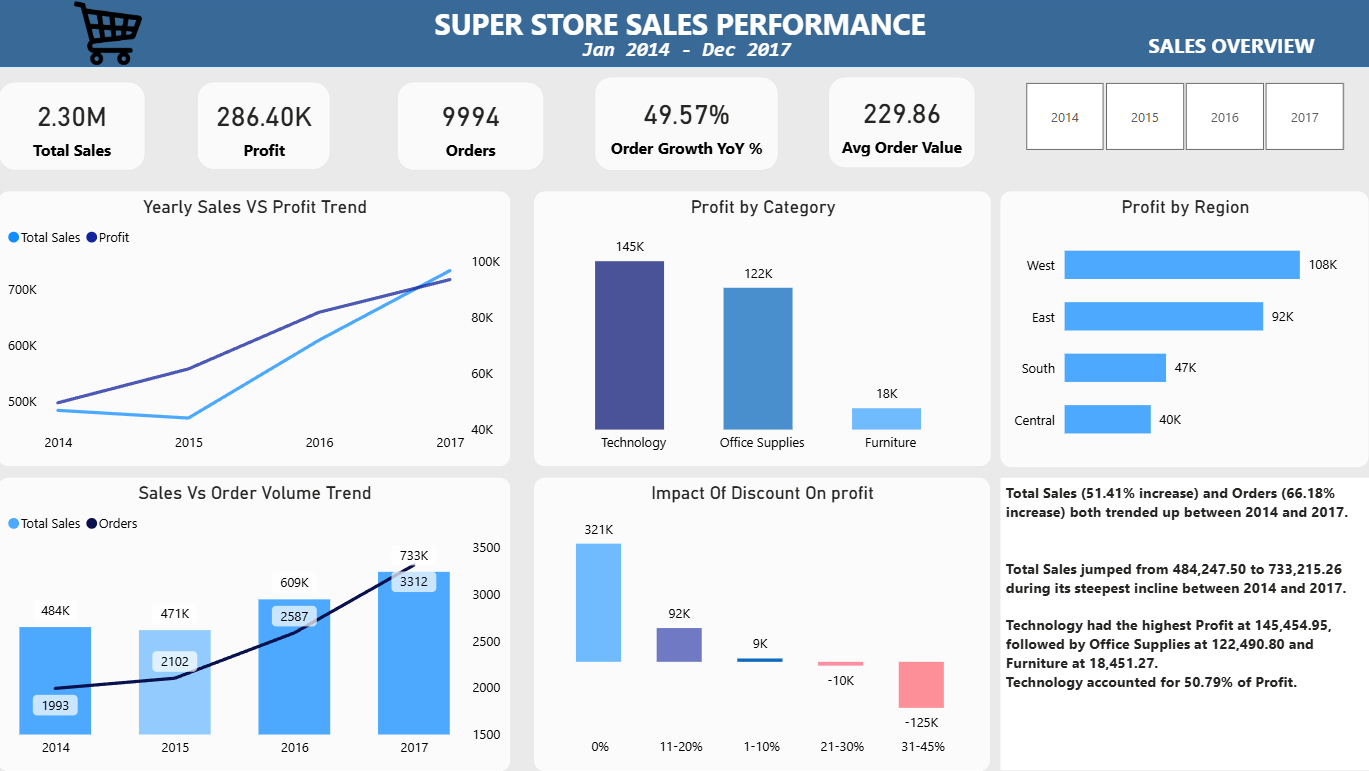

The page's visual inventory and layout, read from the dashboard file:
{"tool":"powerbi","page":{"name":"Performance Overview","canvas":[1280,720],"ordinal":0},"visuals":[{"type":"shape","box":[0,0,1280,63.4],"z":0},{"type":"textbox","box":[226.4,0,827.2,58.5],"z":1000},{"type":"textbox","box":[452.8,31.9,390.2,39.3],"z":2000},{"type":"lineChart","title":"Sales and Profit Show Consistent Growth from 2014 to 2017","fields":{"Category":["Sheet1.Order Date.Variation.Date Hierarchy.Year"],"Y":["Sheet1.Total Sales"],"Y2":["Sheet1.Total Profit"]},"box":[0,179.1,477.7,256.3],"z":3000},{"type":"lineClusteredColumnComboChart","title":"Order Volume Growth Supports Sales Expansion Over Time","fields":{"Category":["Sheet1.Order Date.Variation.Date Hierarchy.Year"],"Y":["Sheet1.Total Sales"],"Y2":["Sheet1.Total Orders"]},"box":[0,446.6,477.7,273.7],"z":4000},{"type":"clusteredColumnChart","title":"Sales and Profit Show Consistent Growth from       2014 to 2017 in Category","fields":{"Category":["Sheet1.Category"],"Y":["Sheet1.Total Profit"]},"box":[500.1,179.1,425.4,256.3],"z":5000},{"type":"clusteredColumnChart","title":"Profit Turns Negative When Discounts Exceed 21%","fields":{"Y":["Sheet1.Profit"],"Category":["Sheet1.discount band"]},"box":[500,446.5,424.4,273.3],"z":6000},{"type":"clusteredBarChart","title":"West and East Regions Contribute the Highest Profit","fields":{"Y":["Sheet1.Profit"],"Category":["Sheet1.Region"]},"box":[935,179.1,343.6,256.4],"z":7000},{"type":"slicer","fields":{"Values":["Sheet1.Order Date.Variation.Date Hierarchy.Year"]},"box":[932.6,70.9,346.5,76.7],"z":8000},{"type":"card","fields":{"Values":["Sheet1.Total Sales"]},"box":[0,77.3,137.4,83.4],"z":9000},{"type":"card","fields":{"Values":["Sheet1.Orders"]},"box":[371.8,77.3,137.4,83.4],"z":10000},{"type":"card","fields":{"Values":["Sheet1.Profit"]},"box":[185.3,77.3,125.2,82.2],"z":12000},{"type":"card","fields":{"Values":["Sheet1.Order Growth YoY %"]},"box":[555.8,72.4,171.8,88.3],"z":13000},{"type":"card","fields":{"Values":["Sheet1.avg order value"]},"box":[774.2,72.4,137.4,85.9],"z":14000},{"type":"textbox","title":"Key Business Takeaways From Sales Overview","box":[935,447,344,273],"z":15000},{"type":"image","box":[19.6,2.5,165.6,58.9],"z":16000},{"type":"textbox","box":[1021.4,25.7,258.6,51.4],"z":17000}]}

Visuals, with their boxes in screenshot pixels (x1, y1, x2, y2), scaled from the page's 1280x720 canvas onto the 1369x771 screenshot:
shape: [0,0,1368,68]
textbox: [242,0,1127,63]
textbox: [484,34,902,76]
"Sales and Profit Show Consistent Growth from 2014 to 2017" lineChart: [0,192,511,466]
"Order Volume Growth Supports Sales Expansion Over Time" lineClusteredColumnComboChart: [0,478,511,770]
"Sales and Profit Show Consistent Growth from       2014 to 2017 in Category" clusteredColumnChart: [535,192,990,466]
"Profit Turns Negative When Discounts Exceed 21%" clusteredColumnChart: [535,478,989,770]
"West and East Regions Contribute the Highest Profit" clusteredBarChart: [1000,192,1368,466]
slicer - Sheet1.Order Date.Variation.Date Hierarchy.Year: [997,76,1368,158]
card - Sheet1.Total Sales: [0,83,147,172]
card - Sheet1.Orders: [398,83,545,172]
card - Sheet1.Profit: [198,83,332,171]
card - Sheet1.Order Growth YoY %: [594,78,778,172]
card - Sheet1.avg order value: [828,78,975,170]
"Key Business Takeaways From Sales Overview" textbox: [1000,479,1368,770]
image: [21,3,198,66]
textbox: [1092,28,1368,83]
